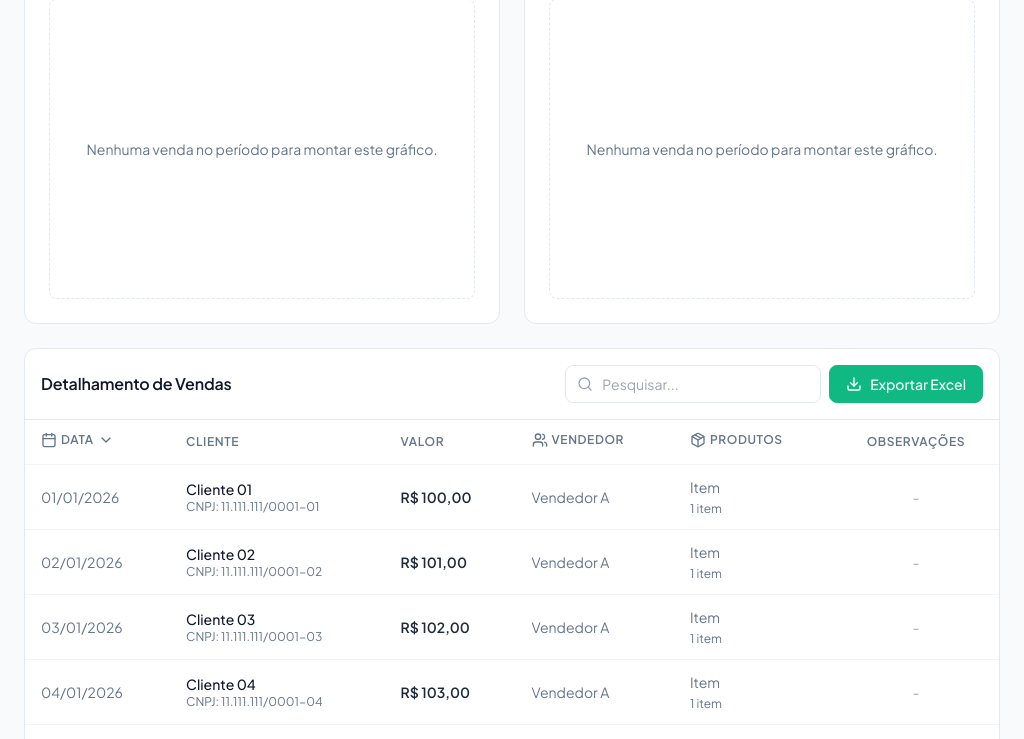
Test: paginacao em Vendas › com filtro que nao casa nada, a tabela diz que esta vazia
The image size is (1024, 739).
(page scrolled)
Type "zzzzz-nao-existe" into the field with placeholder "Pesquisar..." at (693, 384), box left=565, top=365, right=821, bottom=403
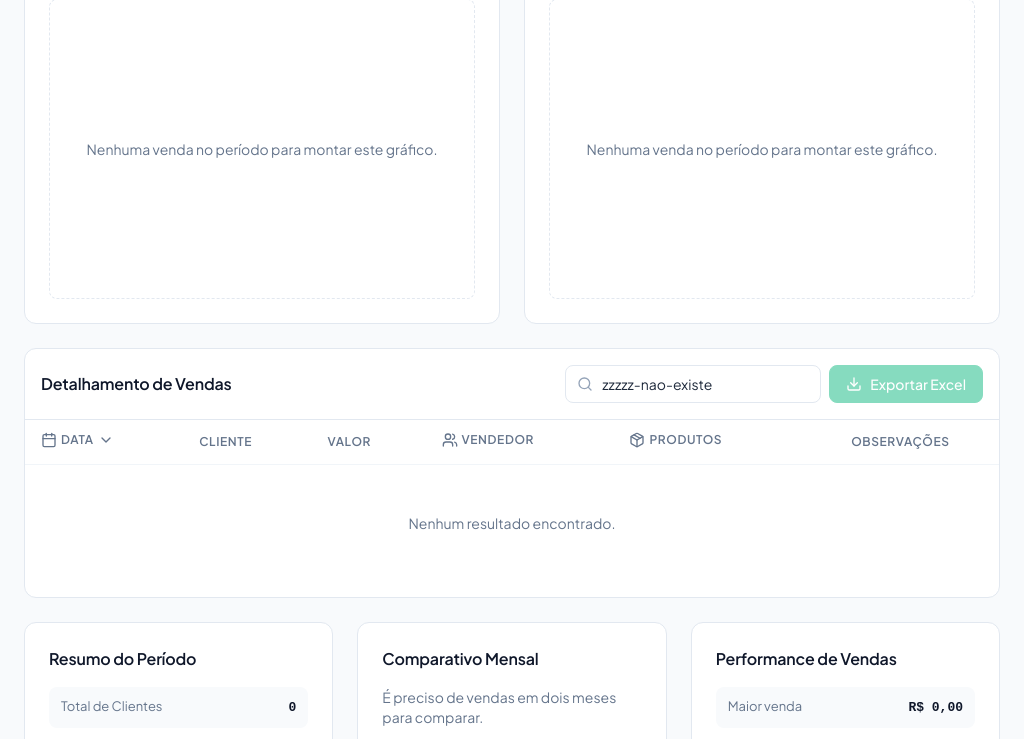
Check: the text "Nenhum resultado encontrado." is shown, box left=25, top=464, right=999, bottom=581
